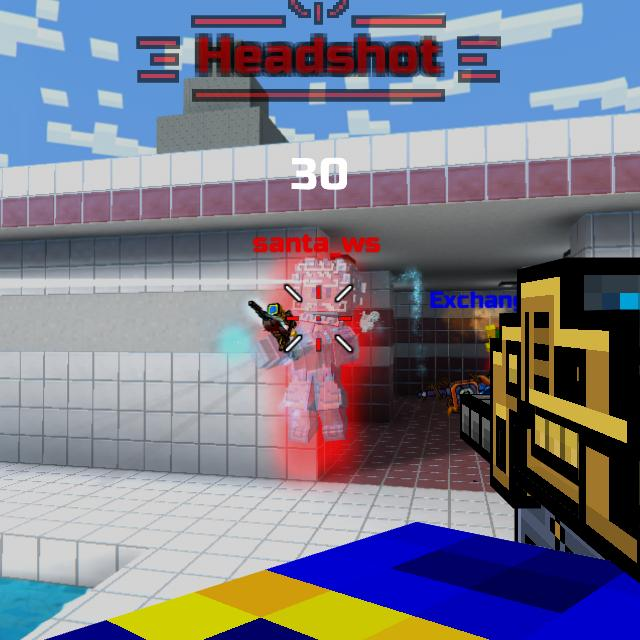Enemy: (257, 253, 360, 443)
